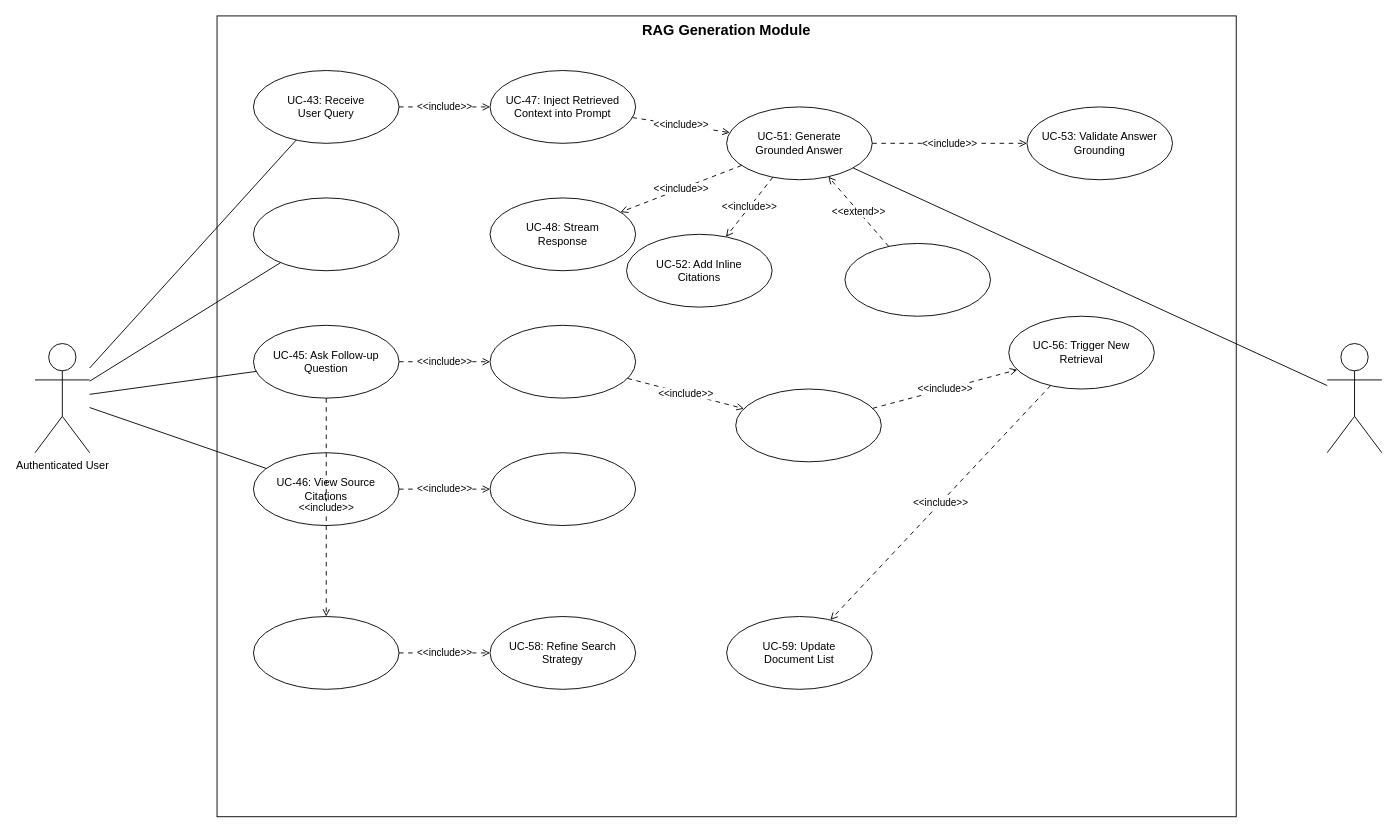
Image size: 1400x833. Some labels were removed from this diagram. Each missing label, with the box of its shape:
LLM Service: (1326, 343, 1382, 453)
UC-44: View AI Generated Answer: (253, 197, 399, 271)
UC-49: Maintain Conversation History: (489, 324, 636, 398)
UC-50: Format Source References: (489, 452, 636, 526)
UC-54: Indicate Knowledge Limitation: (844, 243, 991, 316)
UC-55: Rewrite Query with Context: (735, 388, 881, 462)
UC-57: Analyze User Feedback: (253, 616, 399, 689)
